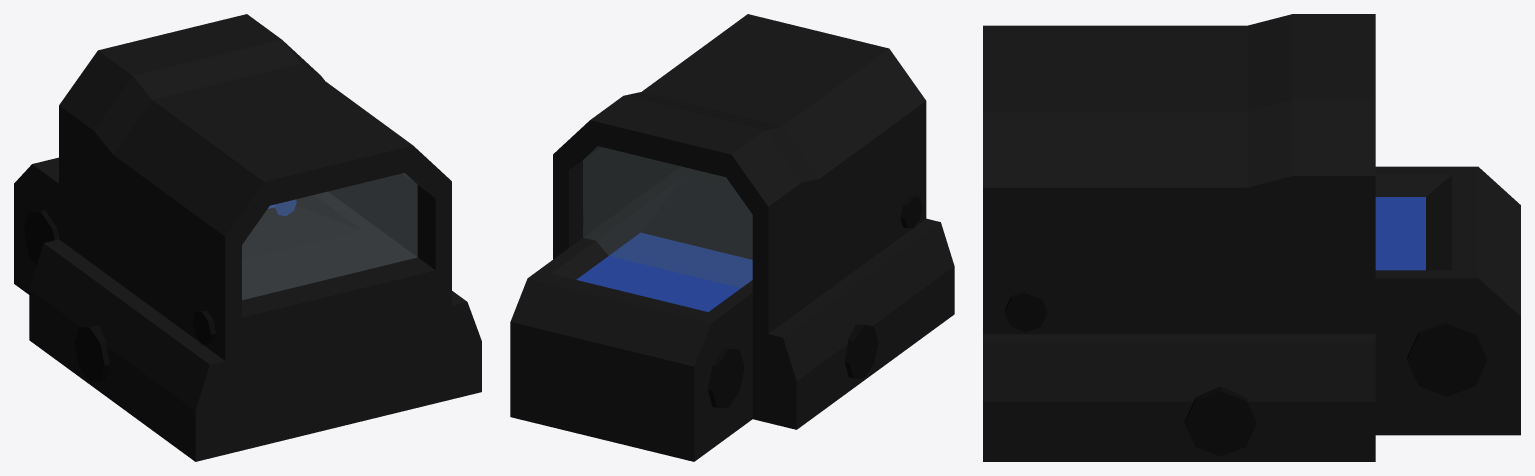
File: reflex.glb
3 renders of one model, left to right at view 1: azimuth 30°, elevation 25°; view 2: azimuth 150°, elevation 25°; view 3: azimuth 270°, elevation 25°, orthographic. The views are drawn at different scales.
Visible parts, largest first — view 1: reflex-malha; view 2: reflex-malha; view 3: reflex-malha.
Part boxes in pixels (x1,y1,x2,y2): reflex-malha: [14, 14, 481, 461]; reflex-malha: [510, 14, 954, 461]; reflex-malha: [983, 14, 1520, 461].
Size of the model in its own units: 0.0492 by 0.0433 by 0.0654.
